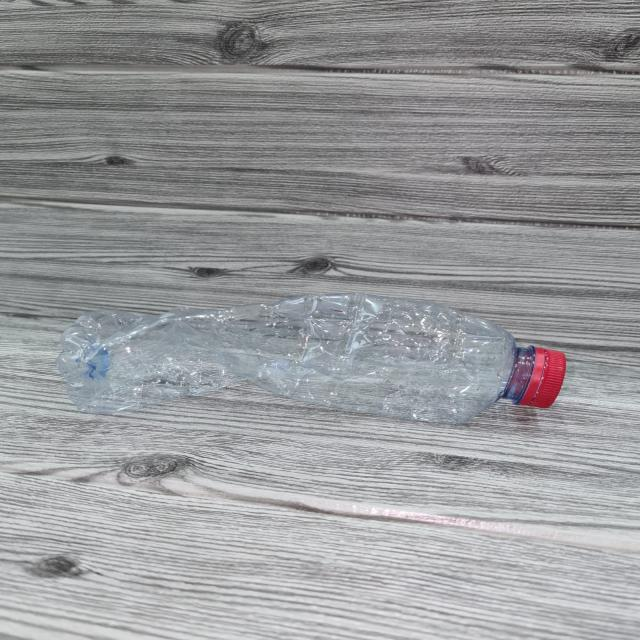plastic bottle: (59, 290, 574, 428)
